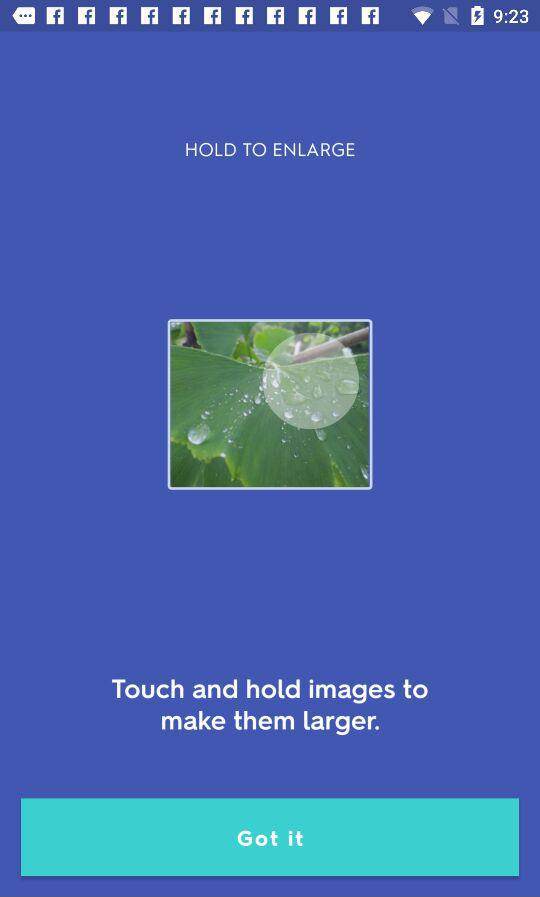Image: (167, 319, 374, 491)
Text: (112, 677, 429, 737), (185, 142, 357, 159)
TextButton: (21, 797, 520, 877)
UpperTaskBar: (1, 1, 540, 33)
